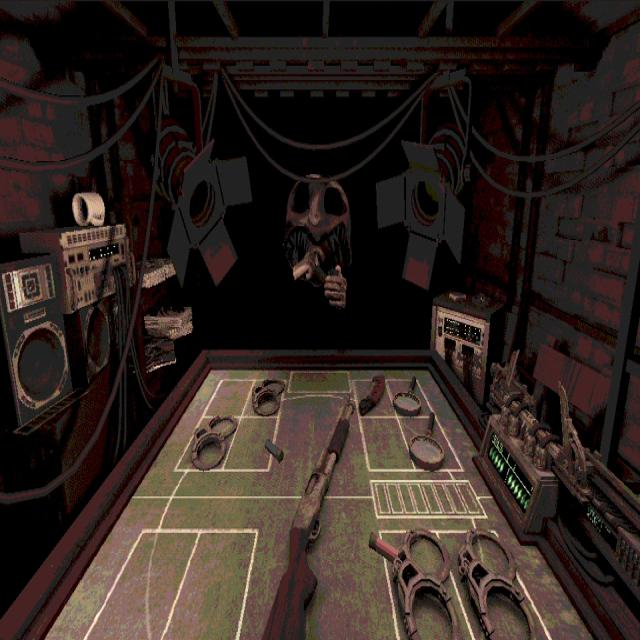ally: (41, 494, 594, 639)
doubledamage: (355, 371, 386, 415)
emptyspace: (83, 526, 198, 639), (164, 529, 253, 639), (361, 416, 413, 468), (224, 416, 275, 469), (203, 381, 253, 415)
enemyspace: (139, 368, 486, 488)
gun: (262, 396, 353, 639)
handcuff: (457, 529, 533, 639), (394, 529, 455, 639), (189, 416, 238, 471), (251, 371, 288, 415)
lens: (409, 413, 443, 471), (392, 375, 423, 416)
